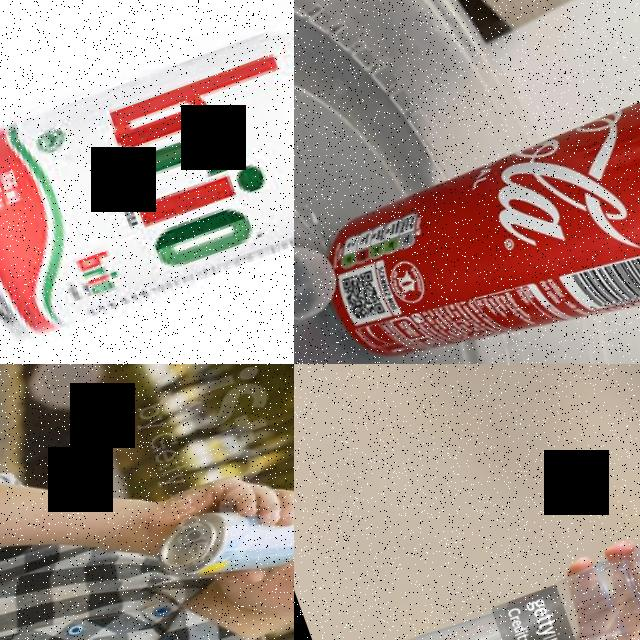bottle: (357, 480, 640, 640)
can: (0, 5, 294, 355), (294, 69, 640, 364), (146, 475, 294, 605)
